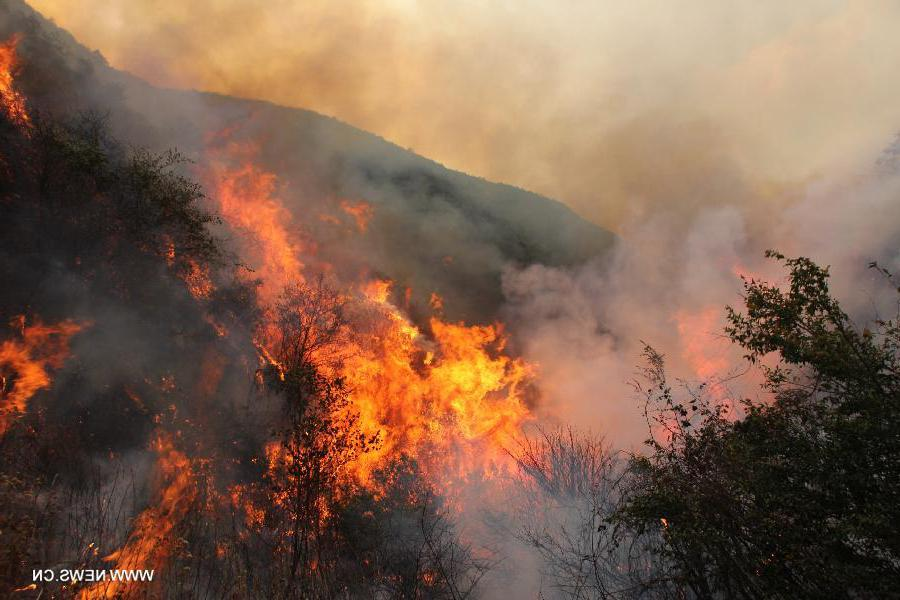fire: (102, 124, 539, 582), (2, 308, 82, 432), (2, 35, 34, 122)
